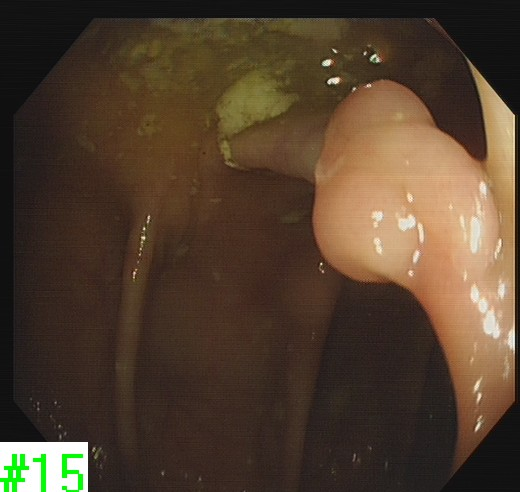adenoma: (309, 76, 504, 287)
